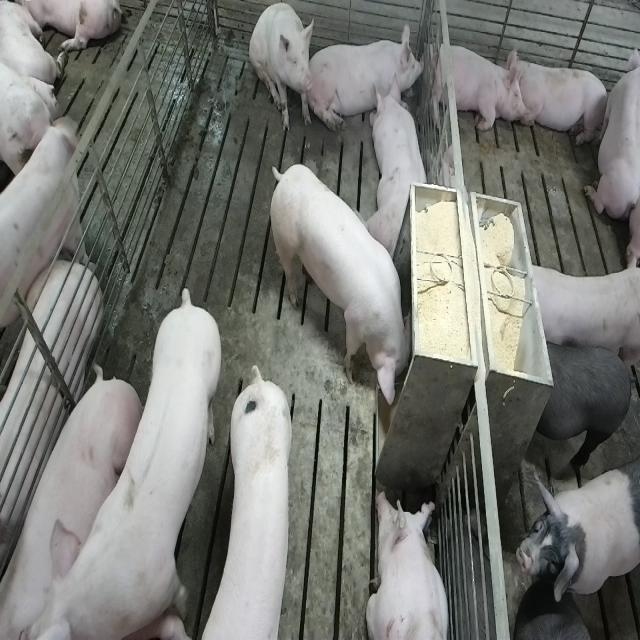Feeding: (265, 162, 410, 410)
Lateral_lying: (0, 370, 144, 640), (0, 266, 100, 614)
Sitting: (250, 3, 315, 134)
Standing: (42, 284, 216, 638), (204, 371, 295, 640), (0, 108, 85, 341), (514, 467, 637, 608), (531, 336, 636, 474), (522, 256, 638, 371), (511, 610, 605, 640)
Sternal_lying: (367, 484, 450, 640), (312, 24, 425, 132), (370, 78, 431, 261), (584, 34, 637, 222), (424, 38, 524, 137), (510, 52, 611, 149)
